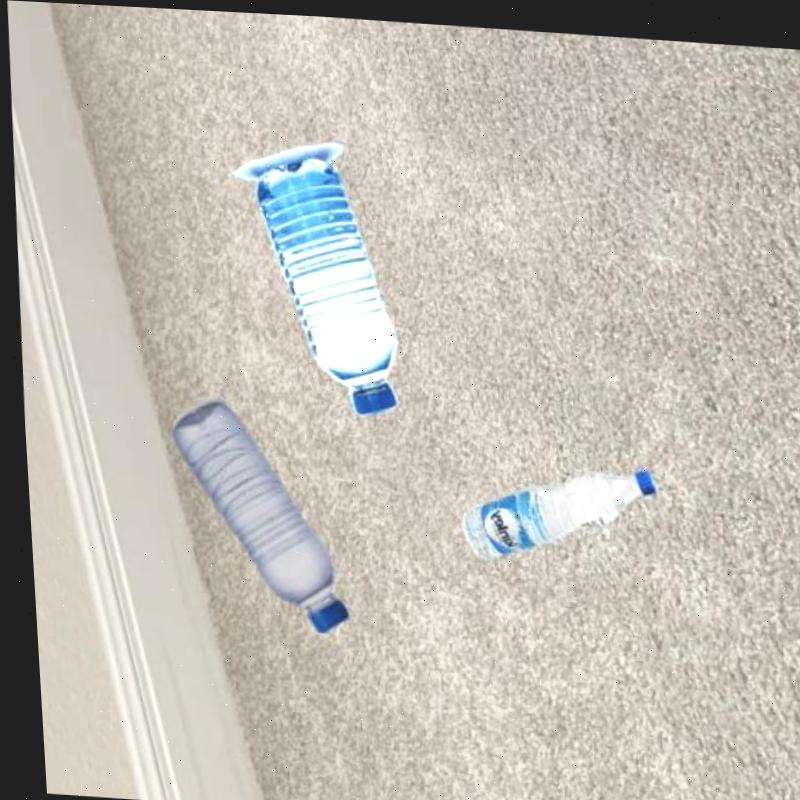botella: (161, 397, 347, 630), (245, 147, 403, 411), (451, 451, 659, 560)
